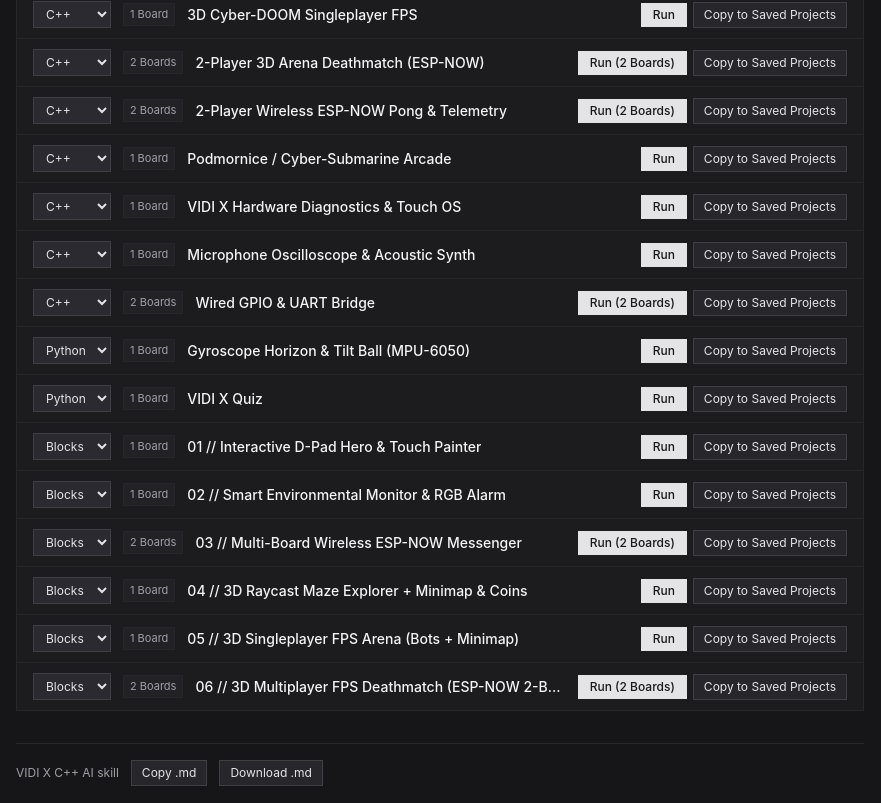
Test case: home screen C++ skill › copies the complete canonical skill from the bottom of the page
The image size is (881, 803).
(page scrolled)
Expected: the footer shows "VIDI X C++ AI skill", x1=16 y1=765 x2=119 y2=780
Click the button "Copy .md": [169, 773] box x1=131 y1=760 x2=207 y2=786
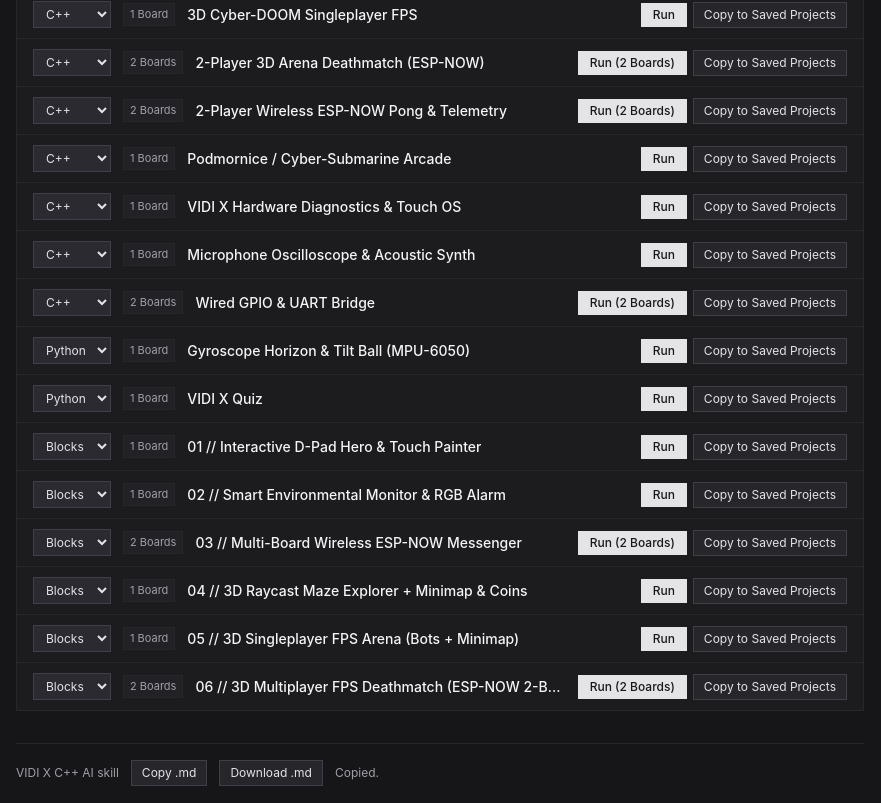
Now the message "Copied." is shown, box x1=335 y1=765 x2=379 y2=781
